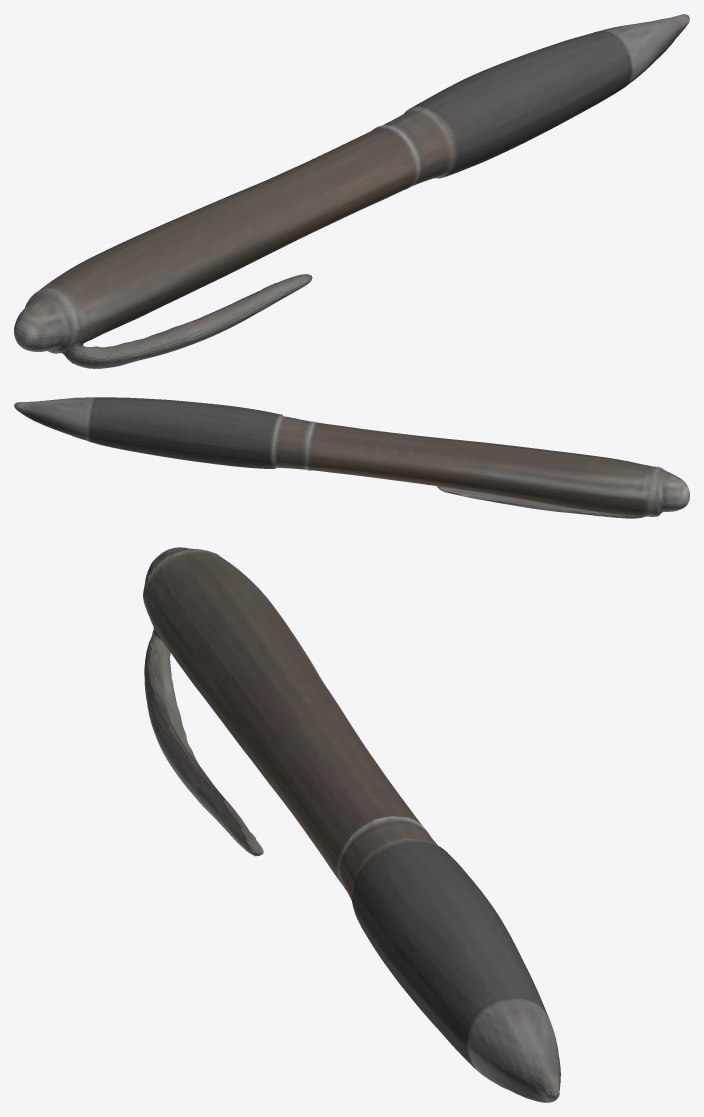
Rendered from frame_0026_source_000026_object.glb.
3 views of the same model, one above another, from view 1: azimuth 30°, elevation 25°; view 2: azimuth 150°, elevation 25°; view 3: azimuth 270°, elevation 25° (orthographic). The views are drawn at different scales.
Visible parts, largest first — view 1: world; view 2: world; view 3: world.
Boxes of the visible parts, x1,y1,x2,y2 form: world: (14, 14, 689, 368); world: (14, 397, 689, 518); world: (143, 547, 560, 1102).
Bounding box in the file's own units: 0.1849 × 0.0246 × 0.0577.
